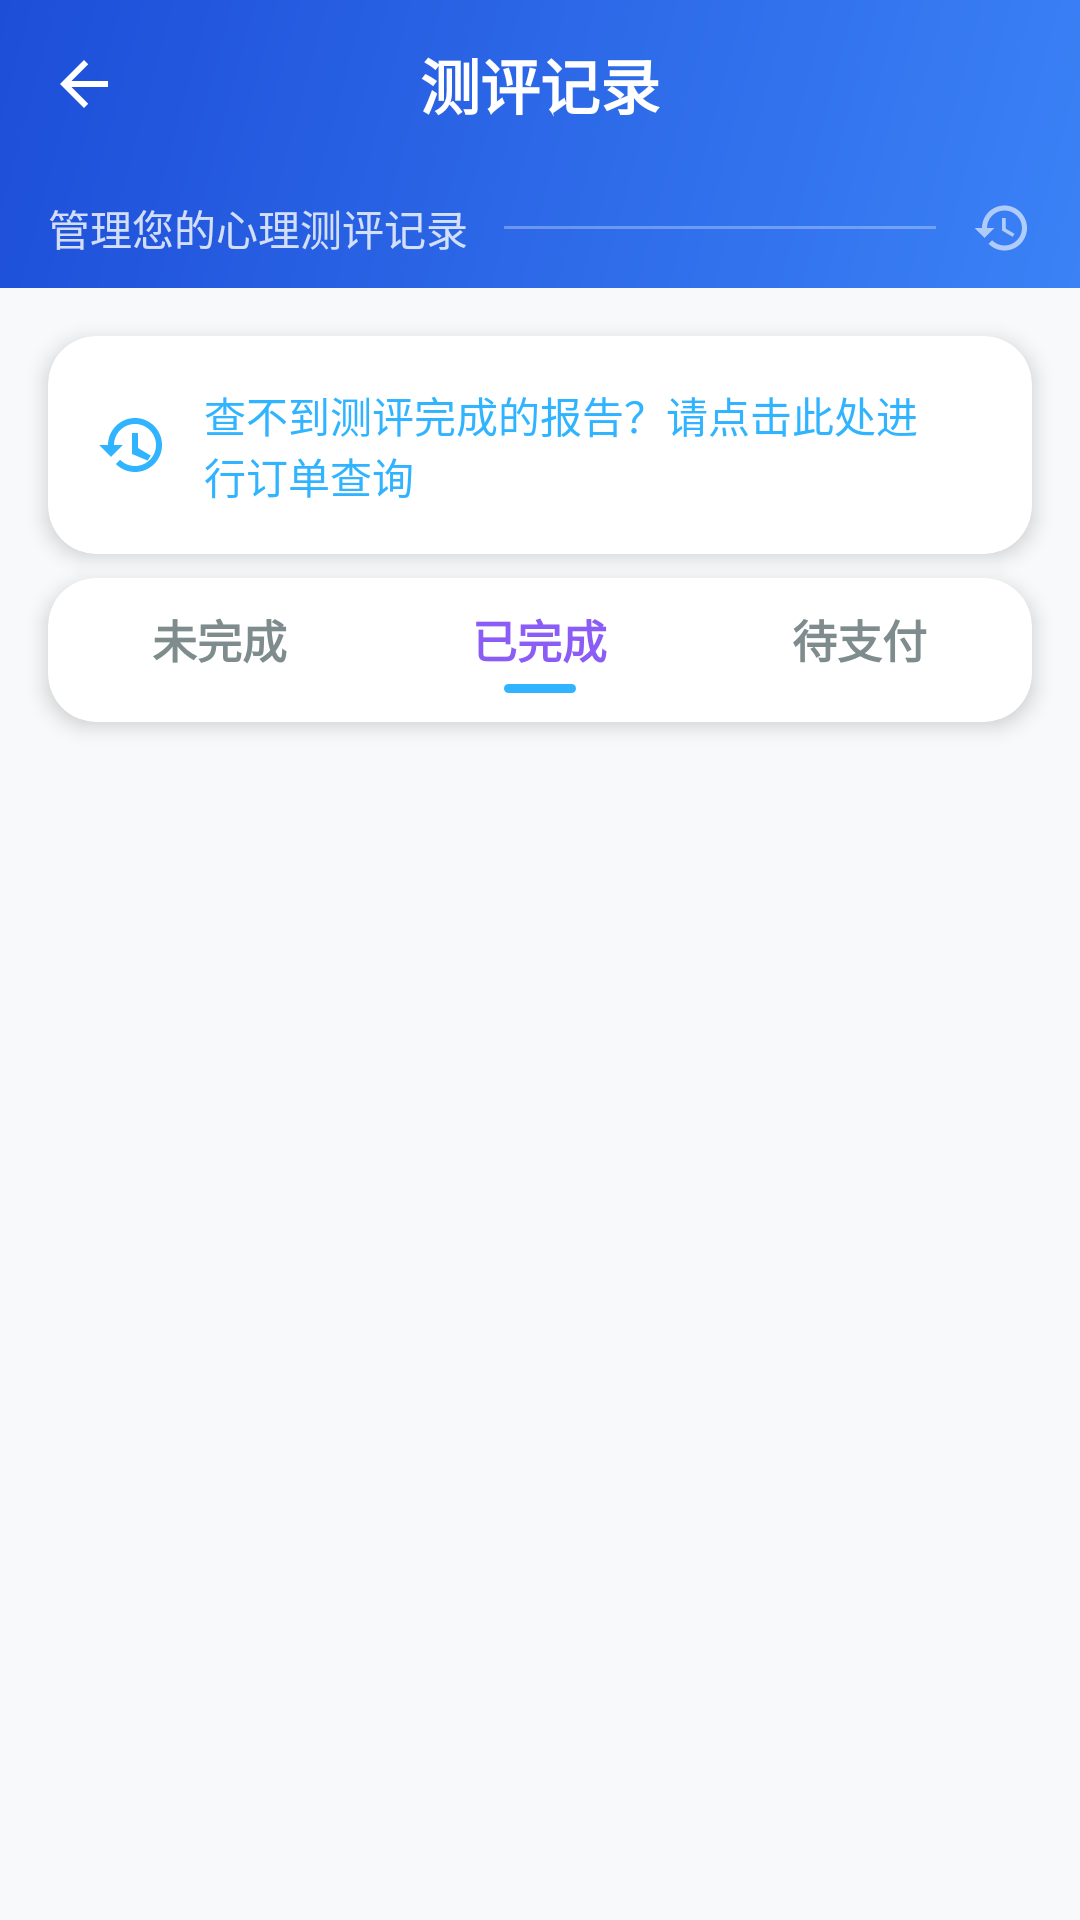

Screen size 1080px×1920px. Icon name, then its box in pixels as {"x1": x1, "y1": y1, "x2": x2, "y2": y2}:
history: {"x1": 975, "y1": 205, "x2": 1027, "y2": 251}, {"x1": 99, "y1": 418, "x2": 162, "y2": 472}
返回: {"x1": 60, "y1": 60, "x2": 108, "y2": 108}
